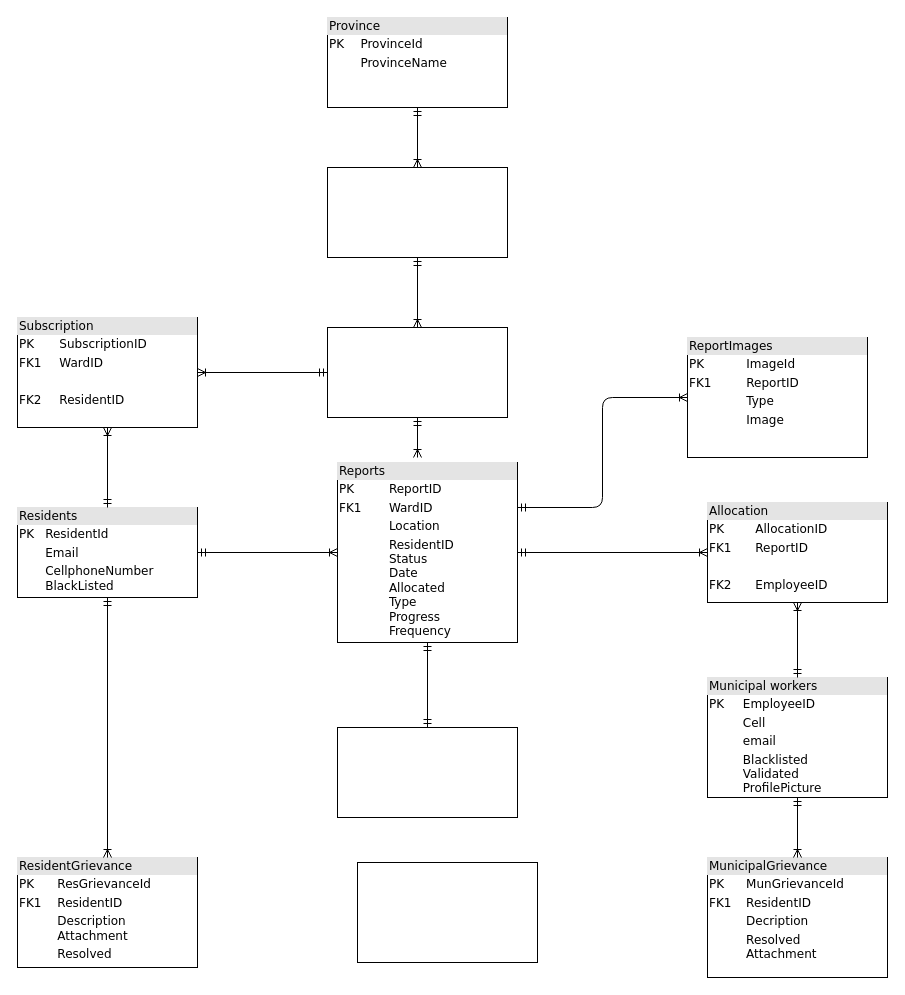
This 905x995 diagram has some shape labels left out. The centre of each missing label's shape, as x and y in pixels:
AnonymousGrievance PK AnonGrievanceId Description Resolved Attachment: point 447,912
FulfilledReports PK FulfllmentId DateFulfilled FK1 ReportID: point 427,772
Municipality PK MunicipalityID FK1 ProvinceID MunicipalityName: point 417,212
Ward PK WardId FK1 MunicipalityID WardCouncillor: point 417,372
